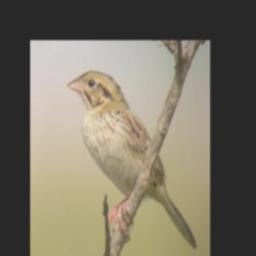Sparrow: (66, 70, 198, 252)
